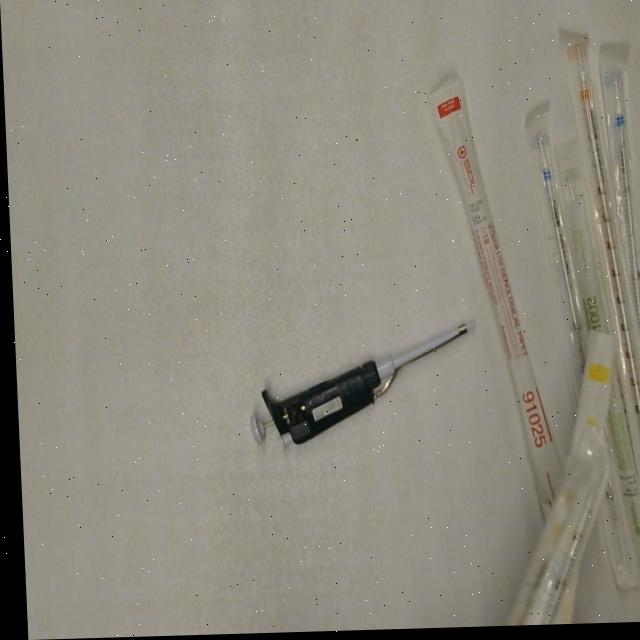Serelogical Pipet 1 mL - Sealed: (501, 421, 611, 628), (560, 331, 617, 469)
Serelogical Pipet 10 mL - Sealed: (561, 38, 640, 518)
Serelogical Pipet 2 mL - Sealed: (553, 137, 640, 613)
Serelogical Pipet 5 mL - Sealed: (517, 100, 637, 599), (599, 40, 640, 390)
Single Channel Pipettor: (425, 75, 560, 507), (238, 317, 480, 455)
